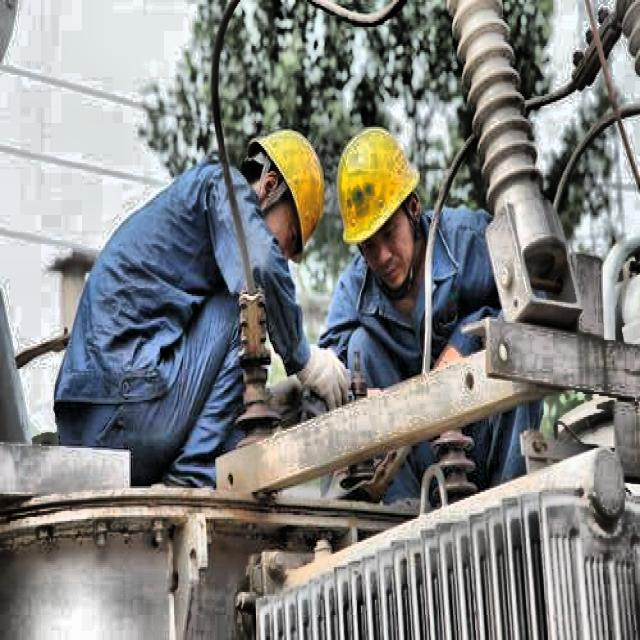helmet: (329, 115, 435, 292), (242, 115, 335, 258)
